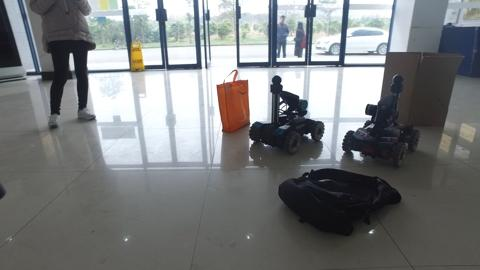bag: (215, 68, 253, 136)
chariot: (341, 76, 423, 167), (250, 74, 325, 156)
